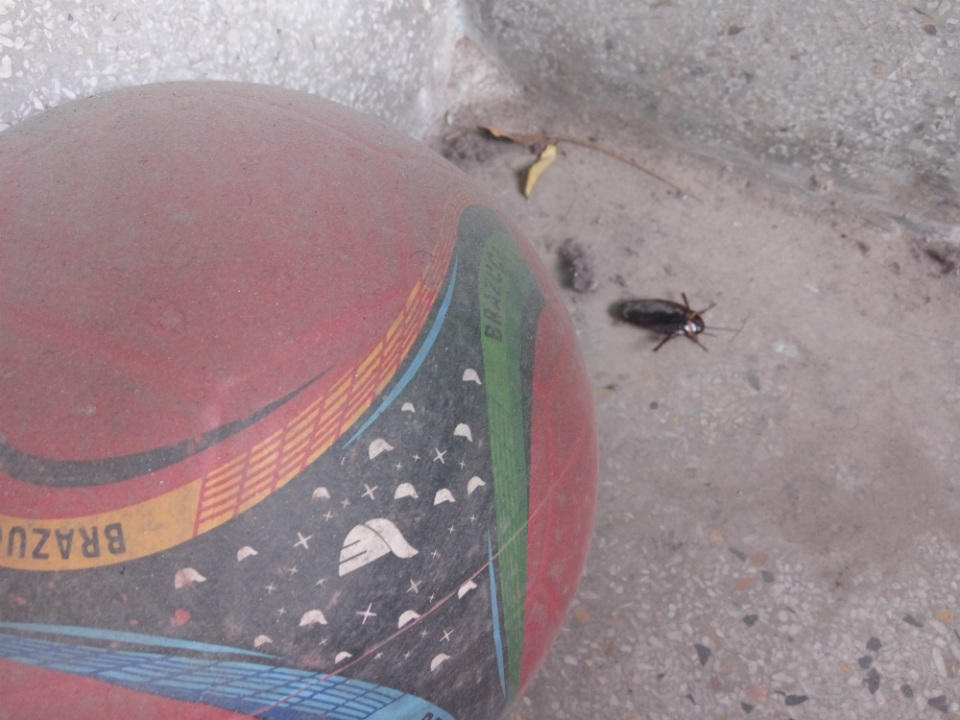cockroach: (592, 273, 744, 347)
